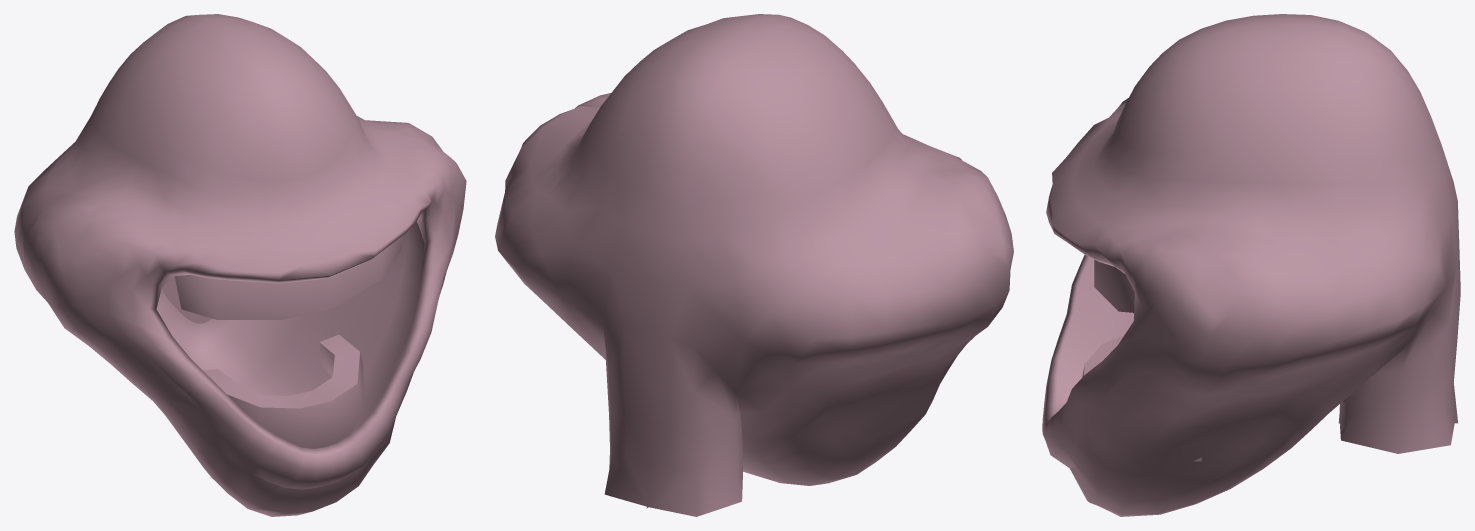
The model's file is TheHead.fbx.
The picture shows the model from 3 angles, left to right: view 1: azimuth 30°, elevation 25°; view 2: azimuth 150°, elevation 25°; view 3: azimuth 270°, elevation 25°; orthographic projection. The views are drawn at different scales.
Parts seen in each view (by area): view 1: polySurface3; view 2: polySurface3; view 3: polySurface3.
Part boxes in pixels (bbox=[...]): polySurface3: bbox=[14, 14, 466, 516]; polySurface3: bbox=[495, 14, 1013, 516]; polySurface3: bbox=[1042, 14, 1460, 516].
Bounding box in the file's own units: 46.29 × 46.76 × 36.64.
